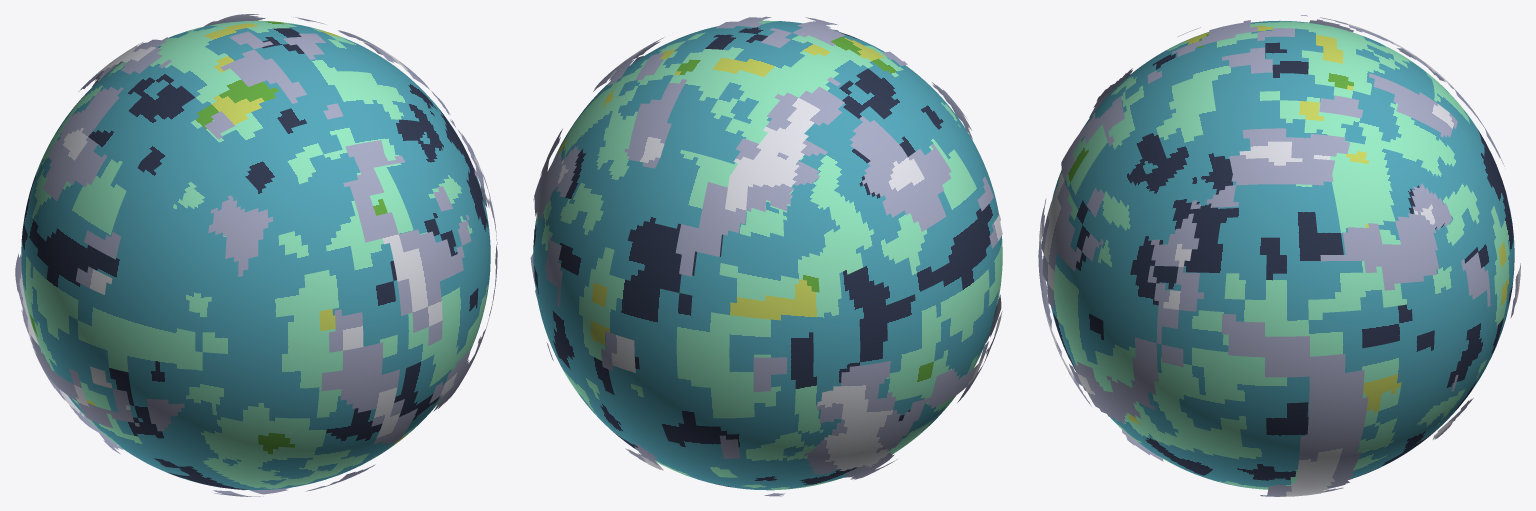
File: ocean.glb
3 renders of one model, left to right at view 1: azimuth 30°, elevation 25°; view 2: azimuth 150°, elevation 25°; view 3: azimuth 270°, elevation 25°, orthographic.
Parts seen in each view (by area): view 1: Surface, CloudShell; view 2: Surface, CloudShell; view 3: Surface, CloudShell.
Part boxes in pixels (bbox=[...]): Surface: bbox=[21, 20, 490, 490]; CloudShell: bbox=[15, 14, 497, 496]; Surface: bbox=[533, 20, 1002, 490]; CloudShell: bbox=[530, 16, 1002, 496]; Surface: bbox=[1047, 20, 1514, 489]; CloudShell: bbox=[1038, 15, 1520, 496].
Bounding box in the file's own units: 2.06 × 2.06 × 2.06.
12 materials, 12 textured.
